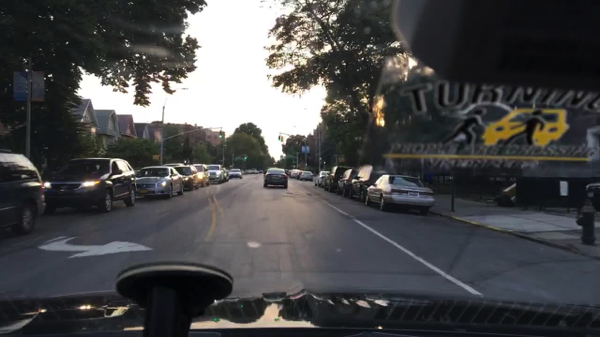car: (41, 157, 137, 215), (0, 149, 47, 235), (363, 174, 434, 217), (132, 166, 185, 201), (348, 165, 386, 203), (322, 165, 353, 193), (172, 163, 199, 192), (336, 168, 358, 197), (188, 163, 211, 189), (263, 168, 287, 189), (584, 180, 599, 213), (205, 163, 225, 185), (314, 170, 329, 188), (298, 171, 314, 182), (228, 169, 242, 180), (221, 168, 230, 183), (288, 169, 301, 179), (163, 162, 184, 168), (264, 166, 278, 174), (285, 168, 290, 176), (241, 169, 246, 175), (246, 169, 251, 175), (258, 169, 263, 174), (257, 169, 259, 174)
traffic light: (152, 155, 161, 162), (280, 136, 284, 142), (222, 131, 225, 139), (219, 132, 222, 139), (244, 156, 247, 161), (278, 136, 280, 140), (292, 159, 294, 163)
traffic sign: (235, 155, 243, 161), (332, 154, 345, 157), (158, 147, 166, 151), (316, 152, 323, 155)
